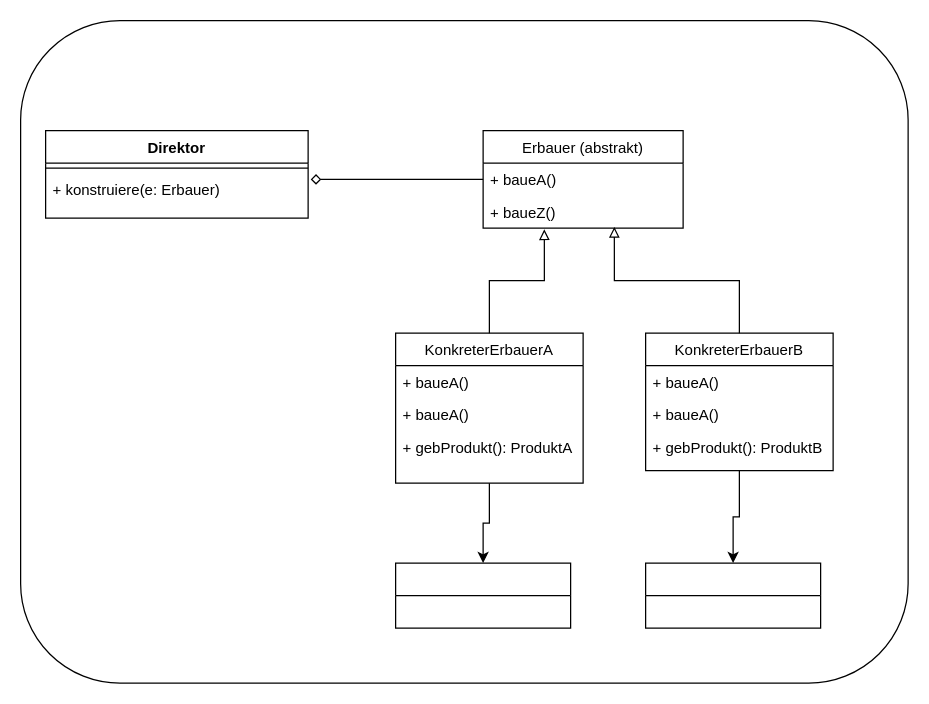
The diagram is 929 pixels wide and 704 high, and some of its shapes have lost their labels. The shapes that lost their labels are listed below. From the top down, each one's centre as x and y in pixels, then its label:
point 482,595: ProduktA
point 732,595: ProduktB
